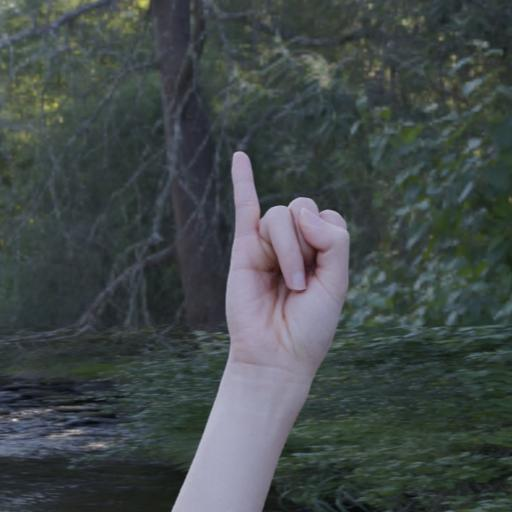I: (143, 134, 371, 512)
